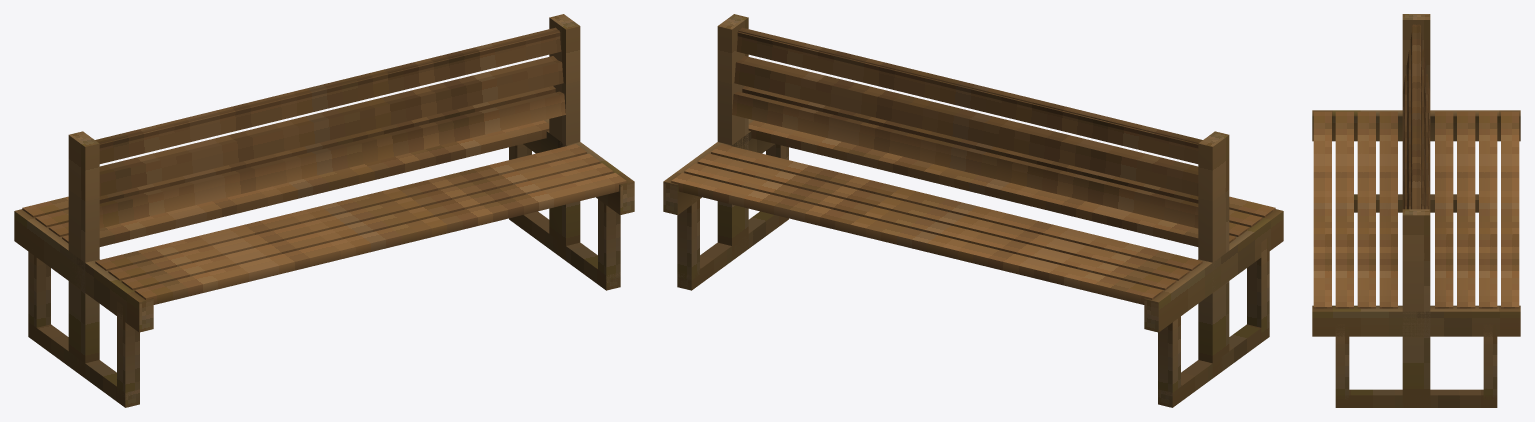
Rendered from bench_hall.glb.
3 renders of one model, left to right at view 1: azimuth 30°, elevation 25°; view 2: azimuth 150°, elevation 25°; view 3: azimuth 270°, elevation 25°, orthographic. The views are drawn at different scales.
Visible parts, largest first — view 1: bench_hall; view 2: bench_hall; view 3: bench_hall.
Boxes of the visible parts, x1,y1,x2,y2 form: bench_hall: [14, 14, 634, 407]; bench_hall: [663, 14, 1283, 407]; bench_hall: [1312, 14, 1520, 407].
Size of the model in its own units: 2.06 by 0.92 by 0.9.
Materials: 1 (1 with a texture image).
